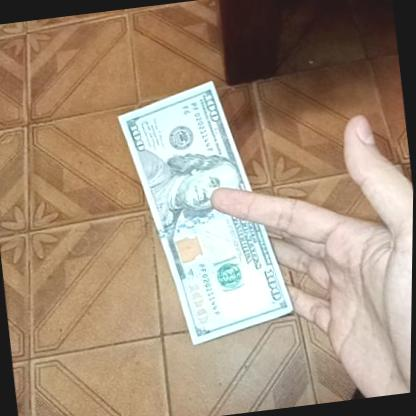one_hundred-front: (112, 75, 300, 355)
